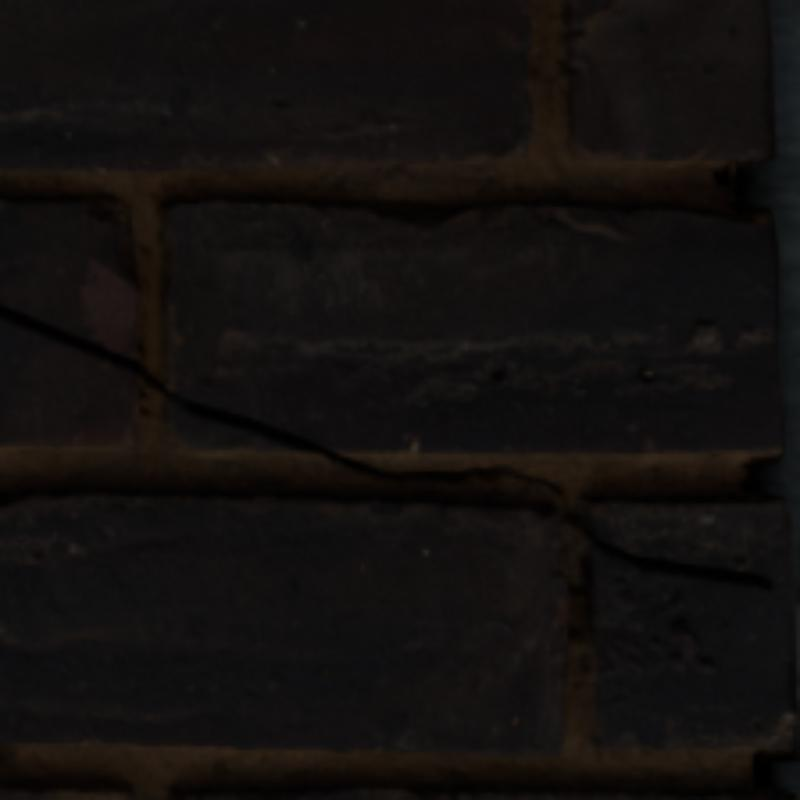crack: (0, 304, 768, 586)
